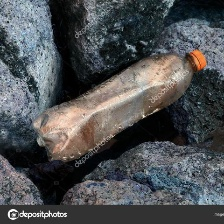bottle: (28, 46, 208, 168)
